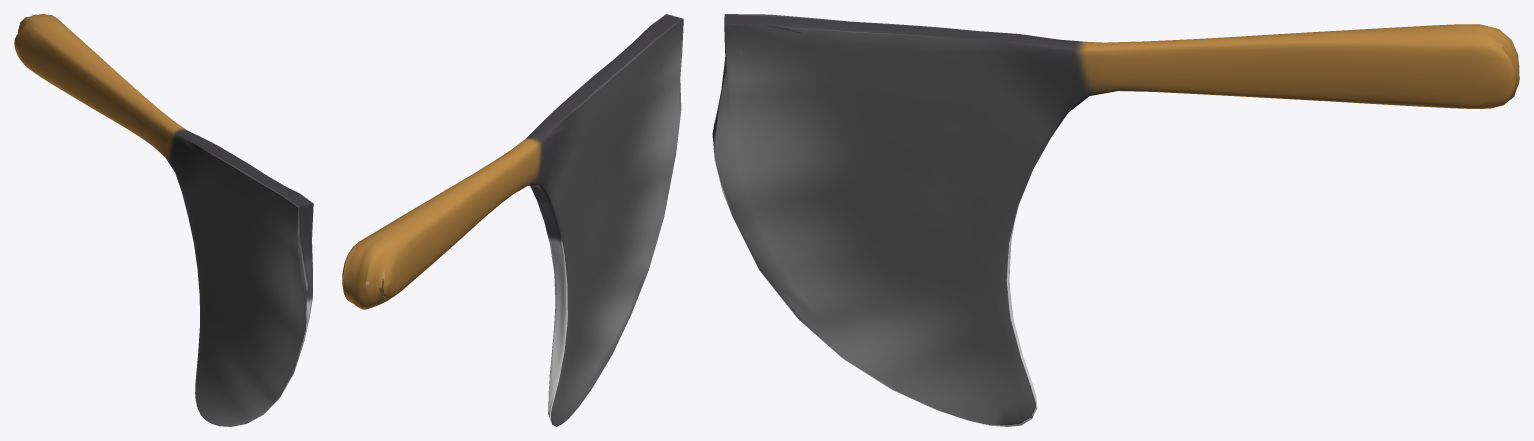
File: Axe.fbx
3 renders of one model, left to right at view 1: azimuth 30°, elevation 25°; view 2: azimuth 150°, elevation 25°; view 3: azimuth 270°, elevation 25°, orthographic. The views are drawn at different scales.
Parts seen in each view (by area): view 1: Retopo_Cube.003; view 2: Retopo_Cube.003; view 3: Retopo_Cube.003.
Boxes of the visible parts, x1,y1,x2,y2 form: Retopo_Cube.003: (14,14,313,426); Retopo_Cube.003: (342,14,683,426); Retopo_Cube.003: (712,14,1519,426).
Bounding box in the file's own units: 3.01 × 21.69 × 38.89.
